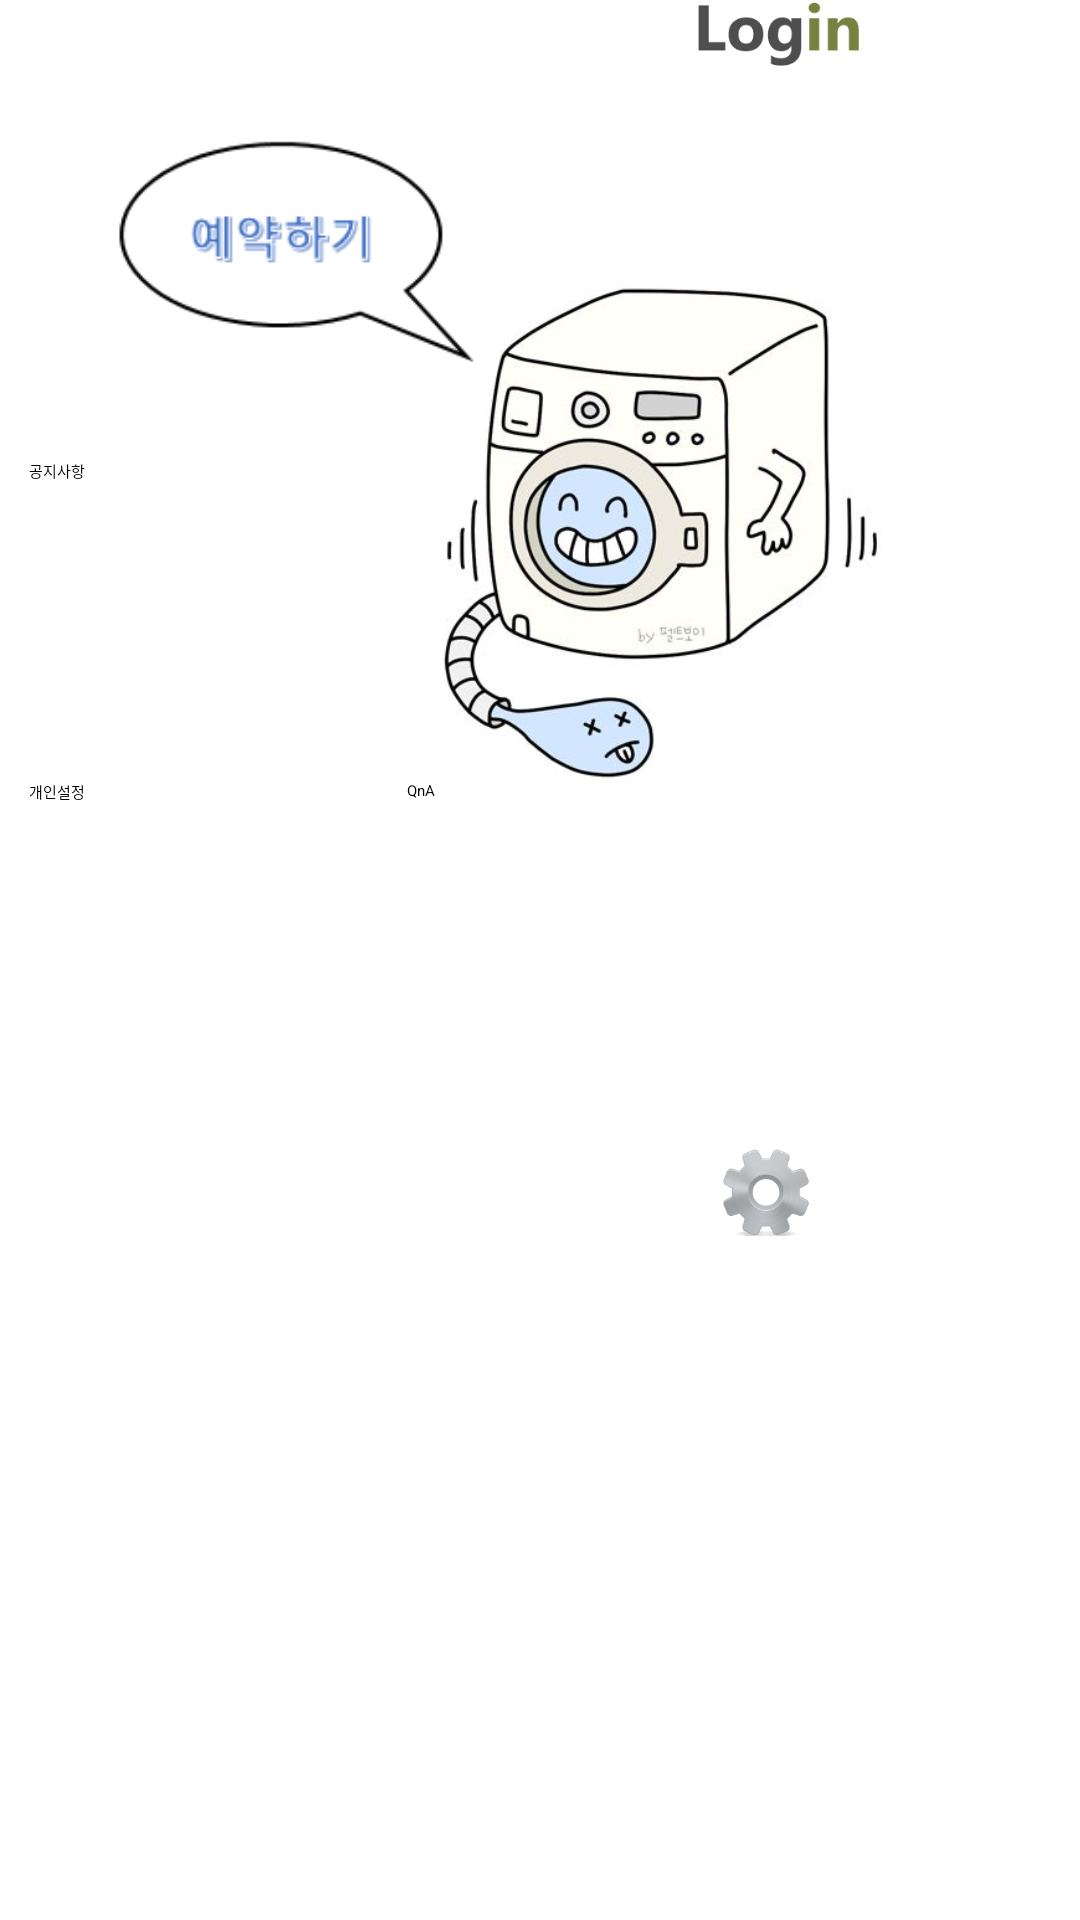

Point at icon controls on the screen. Image size 1080×1920, points as [x,y].
setting: [766,1192]
